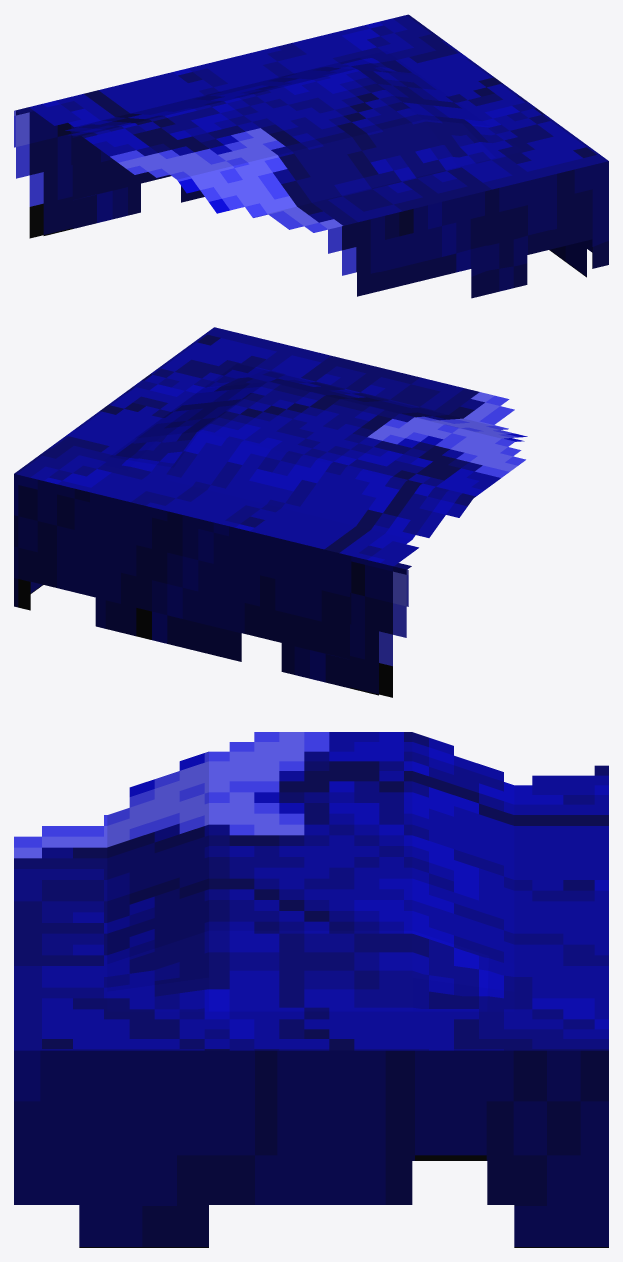
The model's file is bed_696x12.gltf.
3 renders of one model, top to bottom at view 1: azimuth 30°, elevation 25°; view 2: azimuth 150°, elevation 25°; view 3: azimuth 270°, elevation 25°, orthographic. The views are drawn at different scales.
Parts seen in each view (by area): view 1: bed_696x12; view 2: bed_696x12; view 3: bed_696x12.
Part boxes in pixels (bbox=[...]): bed_696x12: bbox=[14, 14, 608, 298]; bed_696x12: bbox=[14, 327, 527, 697]; bed_696x12: bbox=[14, 732, 608, 1247].
Size of the model in its own units: 3.64 by 1.37 by 3.2.
1 material, 1 textured.
